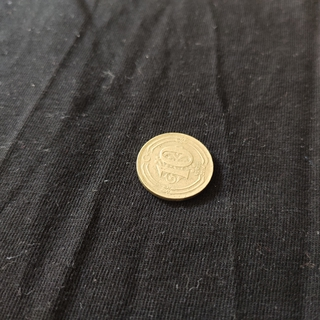10KURUS: (134, 130, 215, 203)
